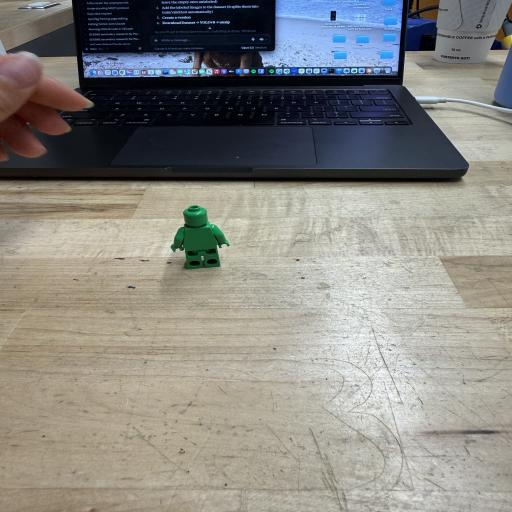green-minifig: (171, 205, 229, 269)
